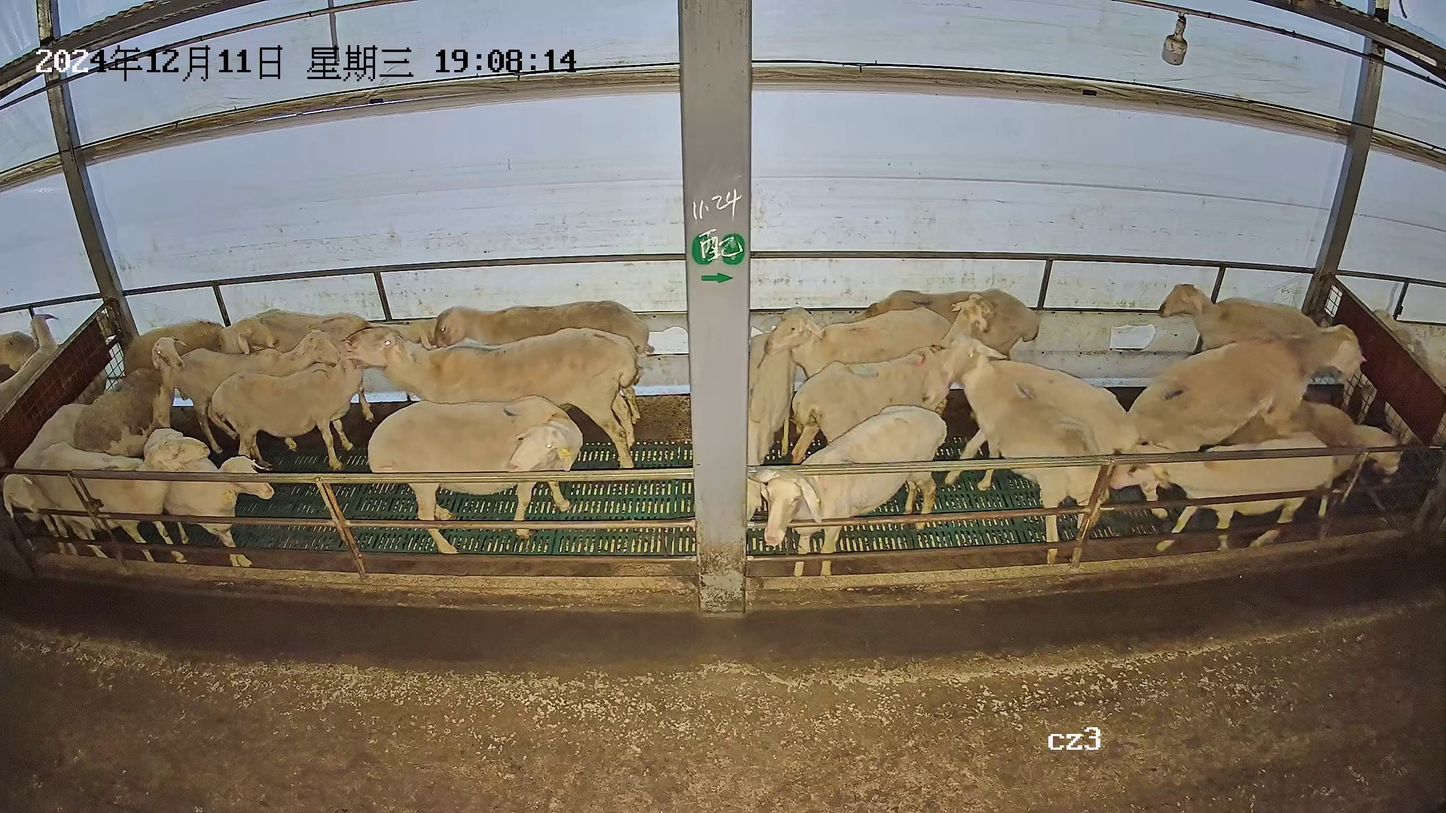Smounting: (1126, 321, 1408, 518)
mounted: (1218, 396, 1404, 480)
